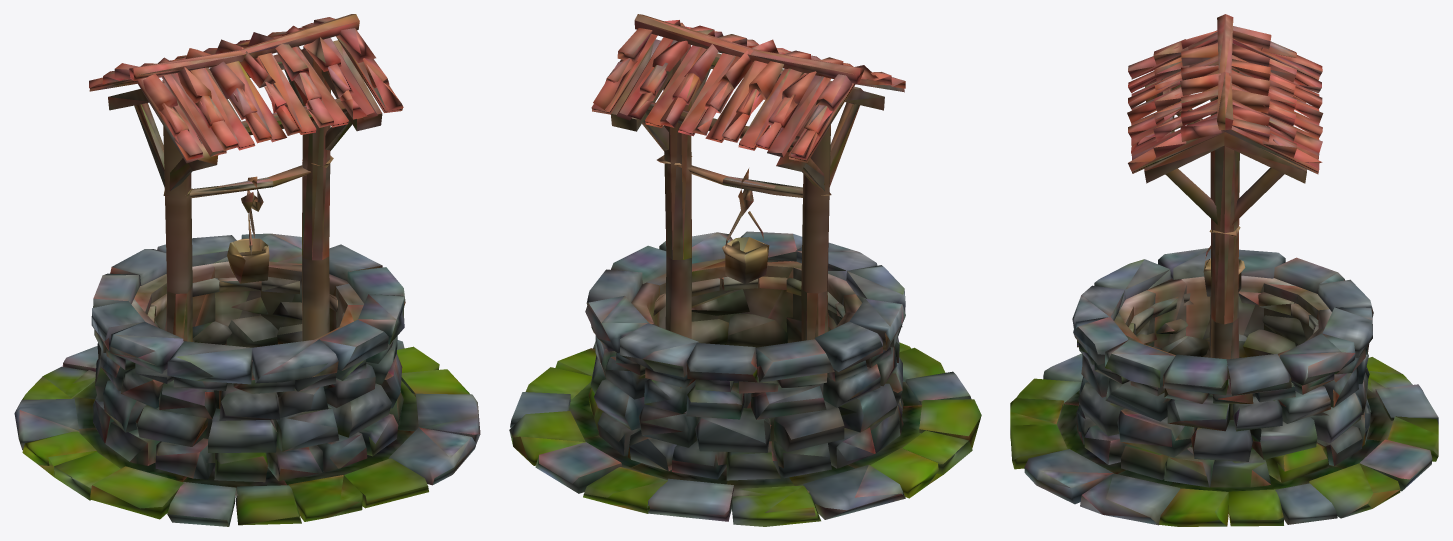
Rendered from well.lod1.glb.
3 views of the same model, side by side, from view 1: azimuth 30°, elevation 25°; view 2: azimuth 150°, elevation 25°; view 3: azimuth 270°, elevation 25° (orthographic). The views are drawn at different scales.
Size of the model in its own units: 2.62 by 2.5 by 2.62.
1 material, 1 textured.
